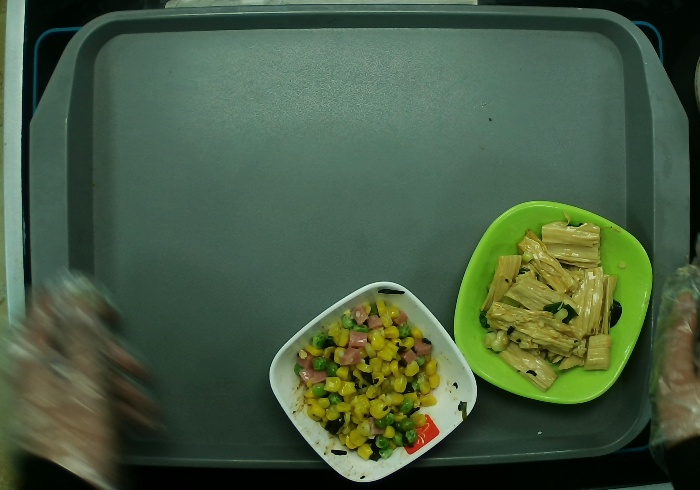SHKJ-Bai_Se_Xiao_Fang_Die: (269, 281, 479, 483)
SHKJ-Lv_Se_Cai_Die: (453, 201, 651, 403)
